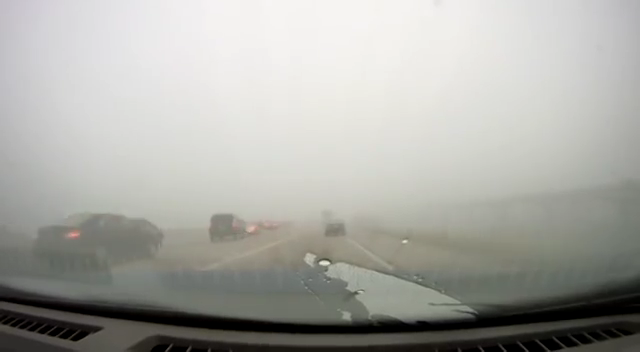car: (35, 212, 166, 269), (208, 213, 245, 241), (324, 221, 346, 237), (243, 222, 261, 235), (263, 219, 279, 230)
